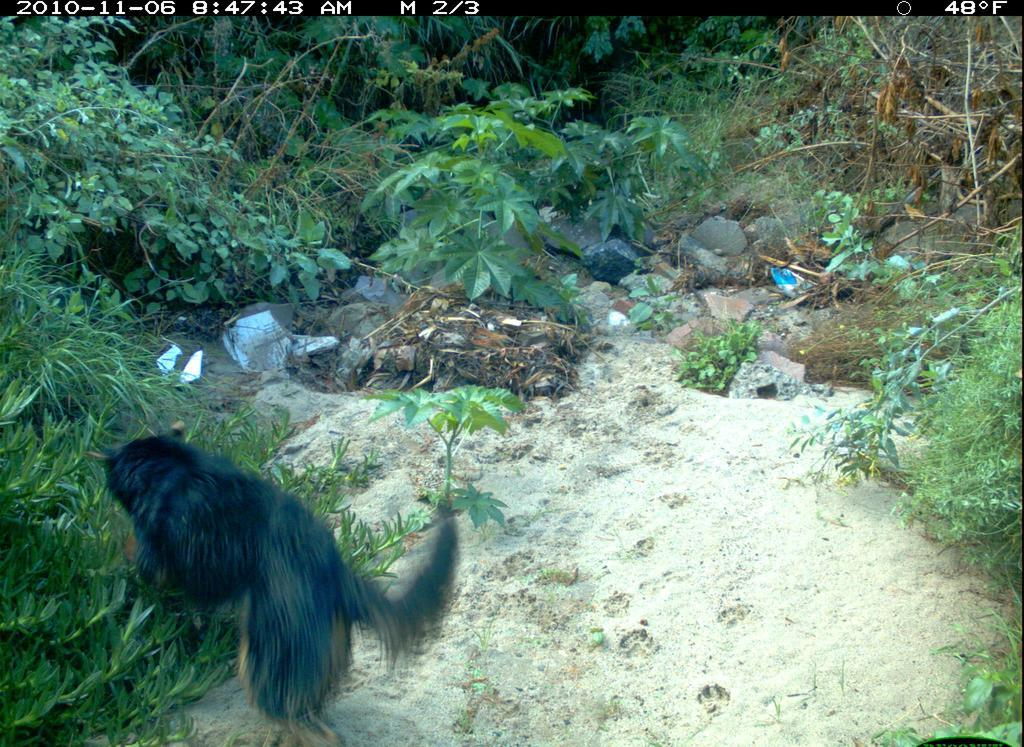dog: (97, 424, 488, 735)
